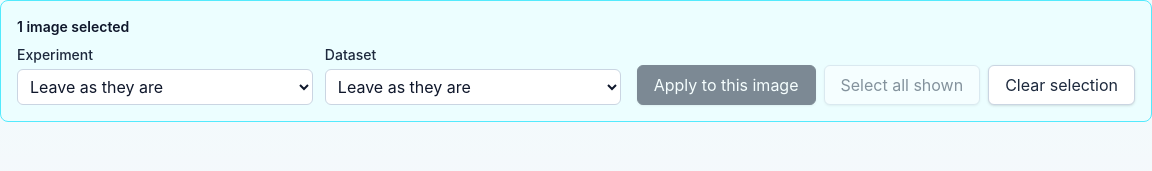
Test: LibrarySelectionBar › reports what the move actually cost once it lands
Select "Fed cohort (0)" in the dropdown labelled "Experiment": (165, 87) [17,69,313,105]
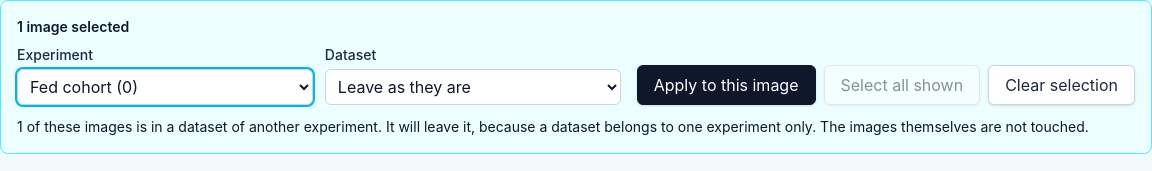
Click the button "Apply to this image": (726, 85) [637,65,816,105]
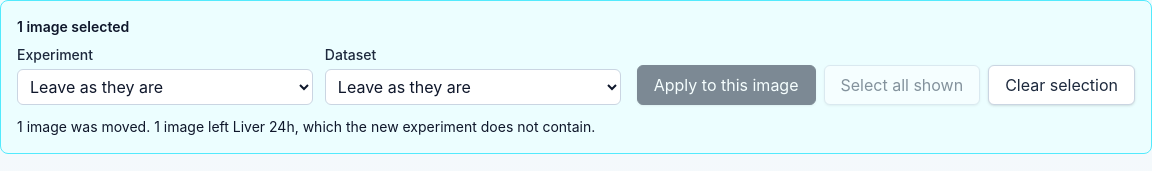
Expected: the text "1 image left Liver 24h" is shown, [17,118,595,135]
